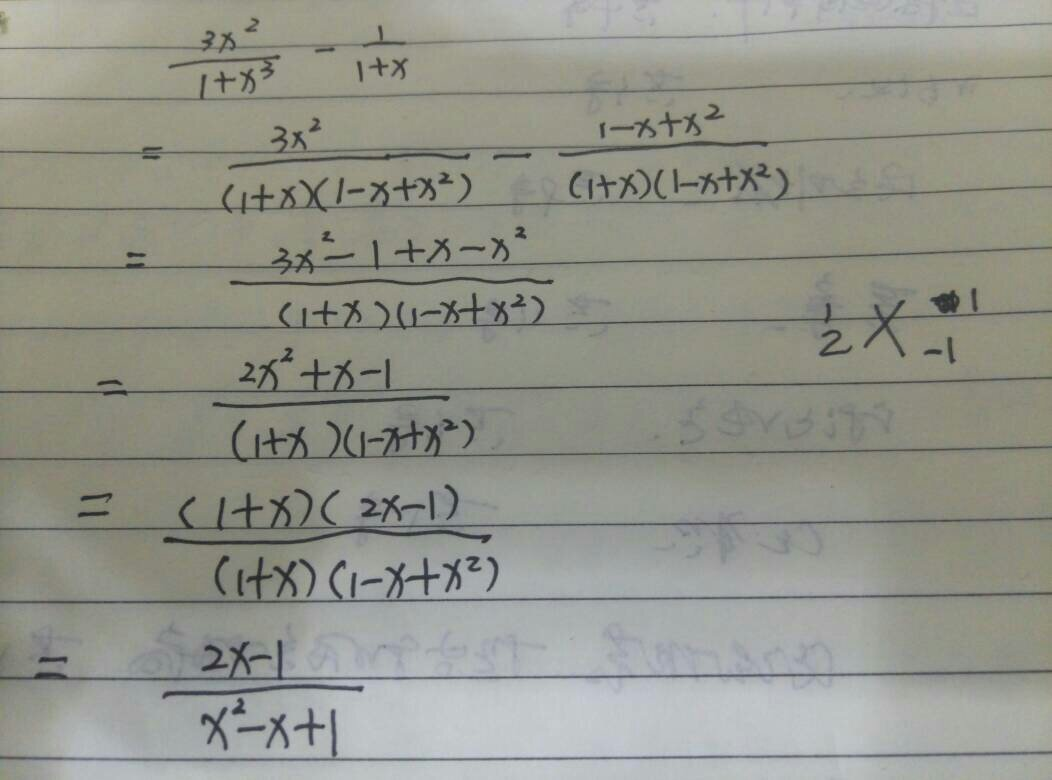cube: (260, 57, 275, 83)
division: (222, 272, 567, 293), (154, 529, 495, 550)
square: (275, 341, 299, 368), (226, 693, 248, 717), (461, 554, 488, 573), (307, 113, 325, 133)
